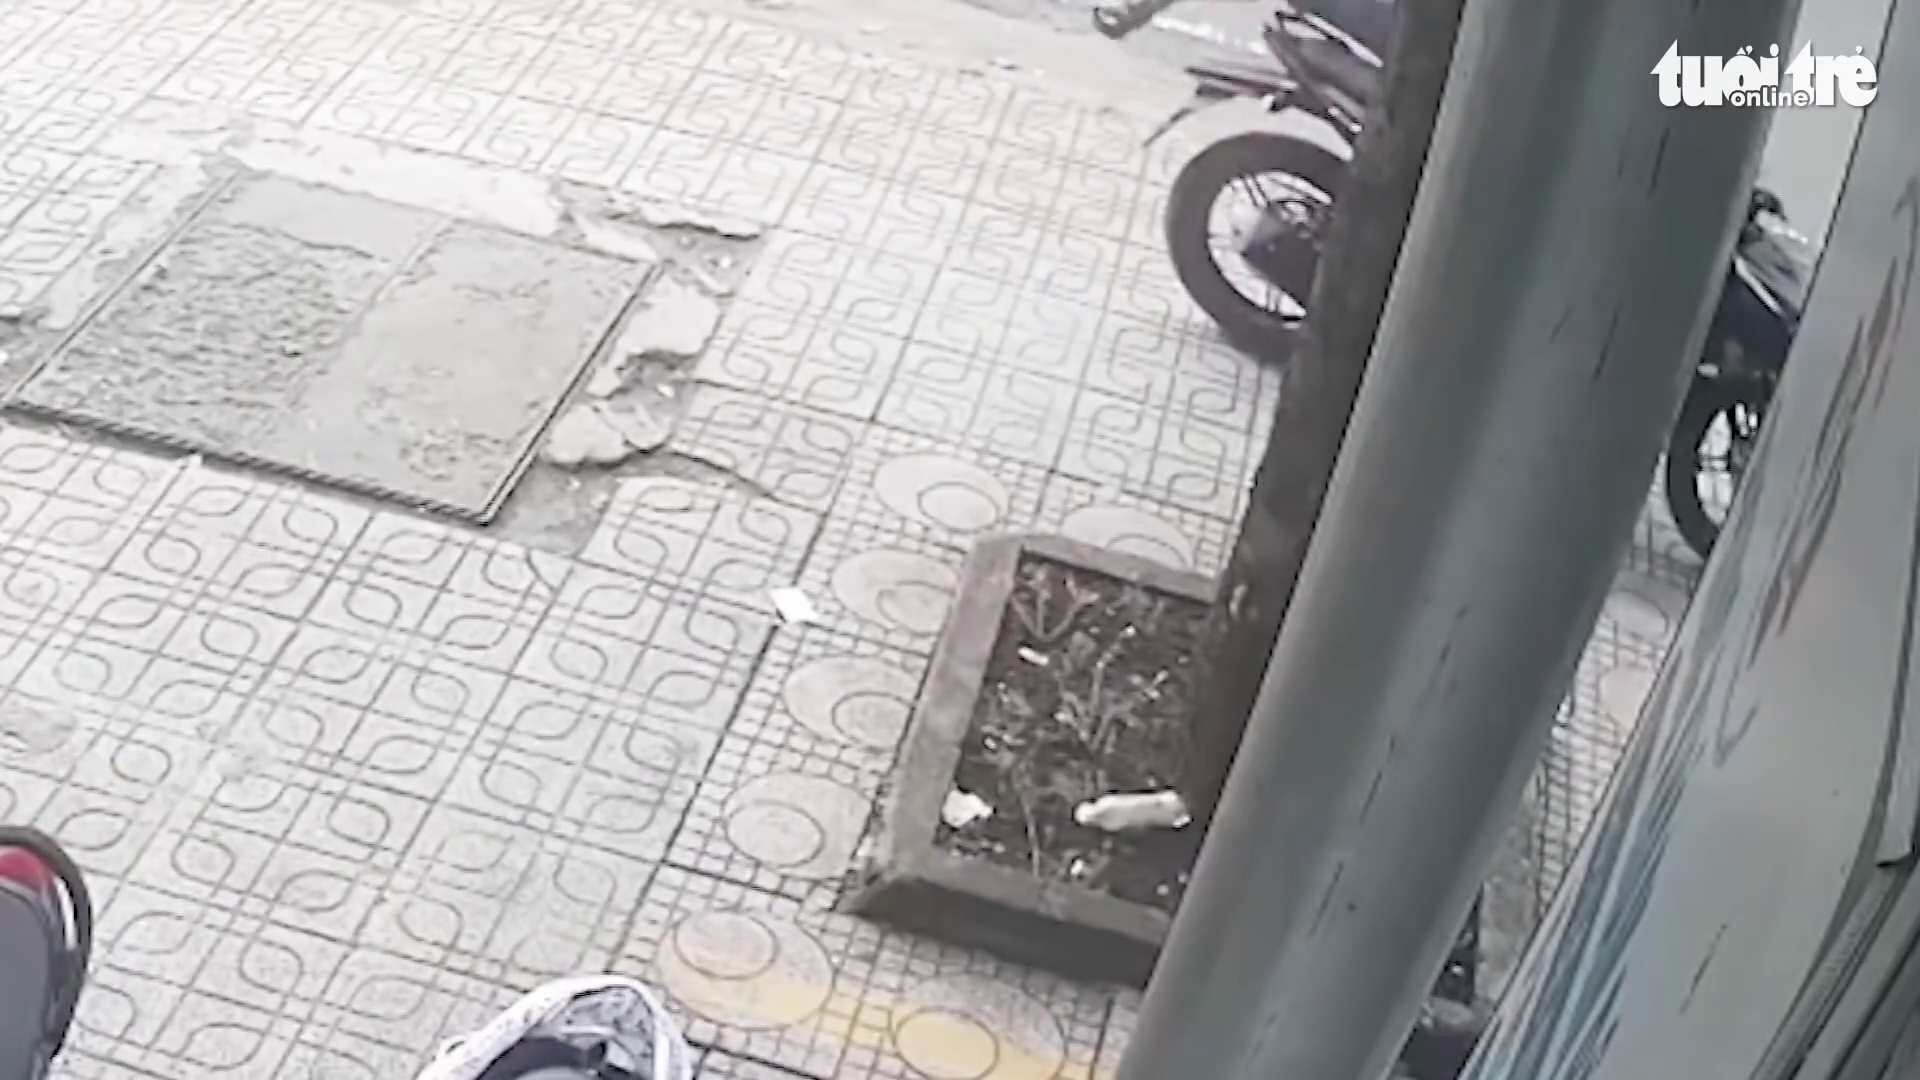Motorcycle: (1145, 8, 1382, 359), (1664, 187, 1817, 560)
